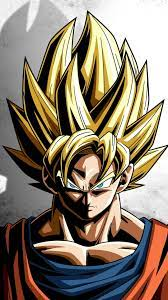Songoku: (6, 13, 168, 223)
